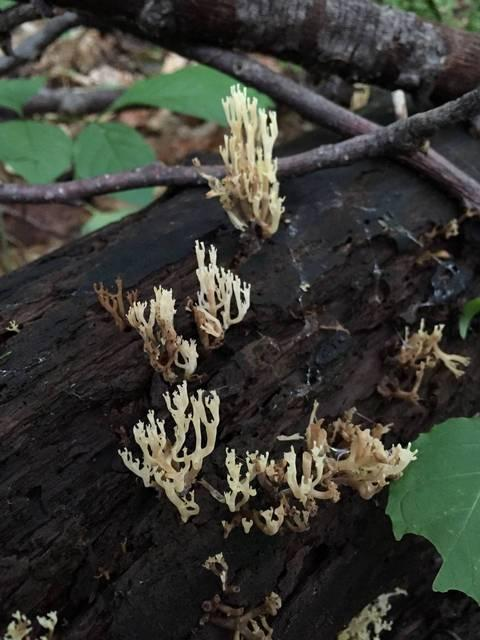Edible Mushroom: (218, 408, 413, 527), (116, 379, 221, 523), (194, 82, 287, 239), (124, 283, 199, 384), (187, 238, 252, 350)
